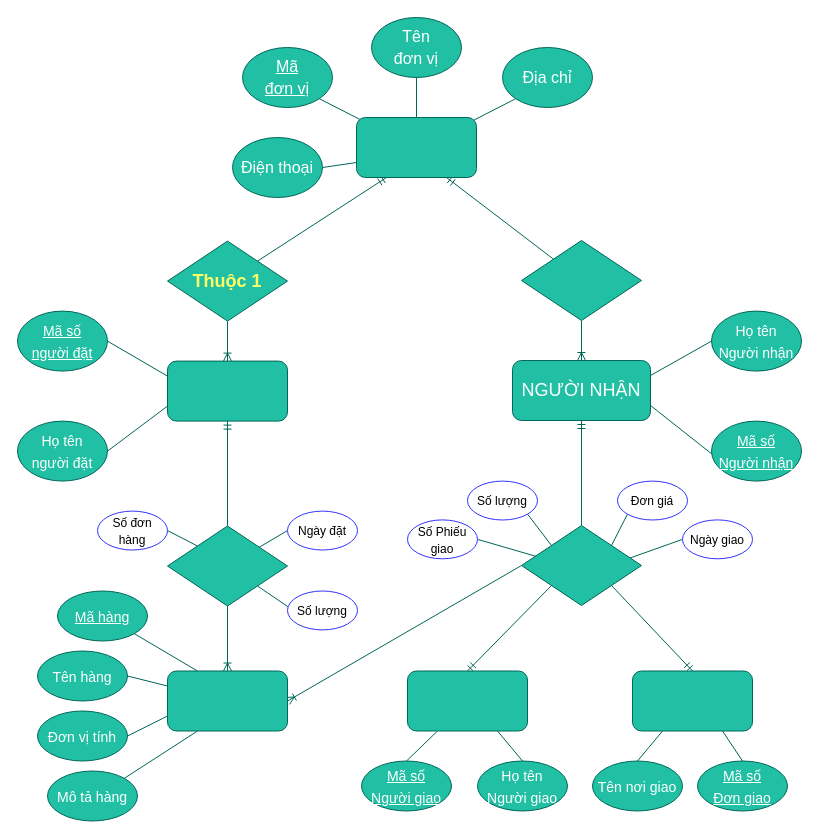
Image size: 819x839. Some labels were removed from this diagram. The box of each missing label's shape, as (x1, y1, x2, y2) in pixels:
Giao: (520, 524, 642, 606)
HÀNG: (166, 670, 288, 731)
NGƯỜI GIAO: (406, 670, 528, 731)
NGƯỜI ĐẶT: (166, 360, 288, 421)
NƠI GIAO: (632, 670, 752, 731)
Thuộc 2: (520, 240, 642, 320)
ĐƠN VỊ ĐẶT HÀNG: (356, 116, 476, 178)
Đặt: (166, 525, 288, 606)
